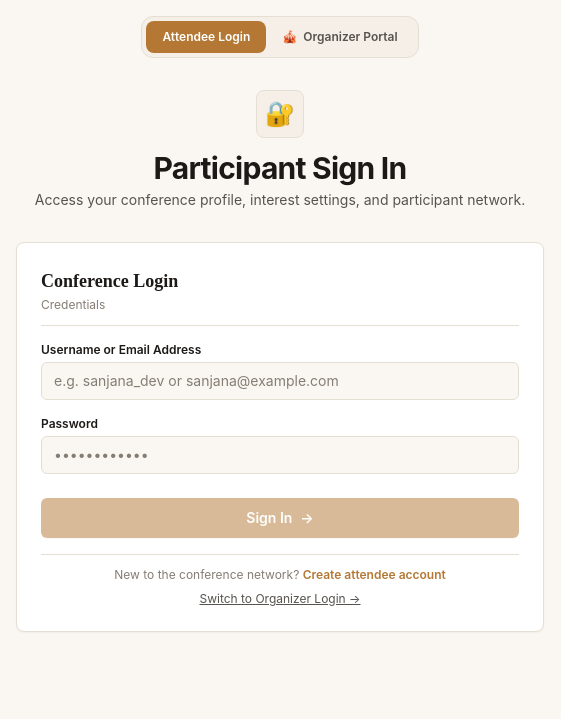
it: Login Component › displays rate limiting throttling message on 429 response
The image size is (561, 719).
Type "user_throttled" into the field labelled "Username or Email Address" at x=280, y=381, box [41, 362, 519, 400]
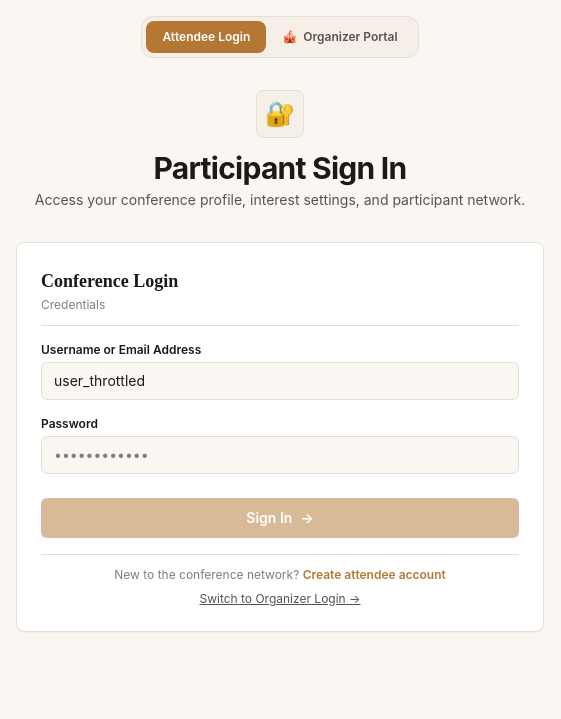
Type "password123" into the password field labelled "Password" at x=280, y=455, box [41, 436, 519, 474]
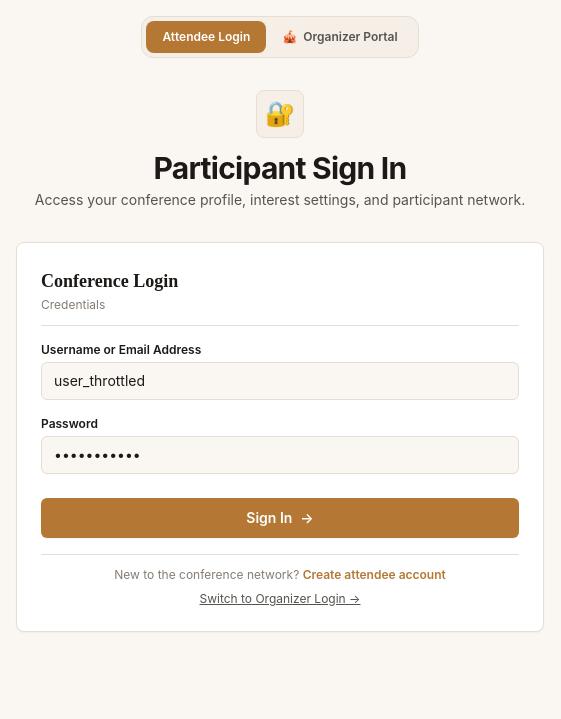
Click the button "Sign In →" at x=280, y=518, box [41, 498, 519, 538]
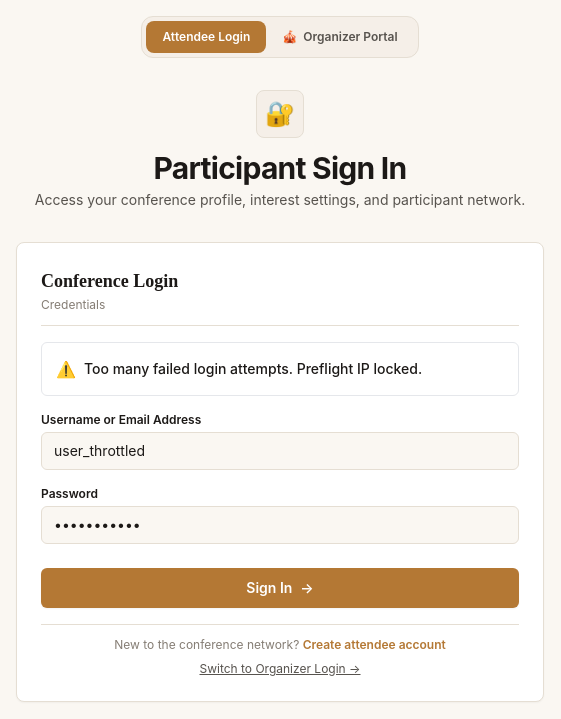
expect the text "Too many failed login attempts. Preflight IP locked." is shown: met, box [84, 359, 422, 379]
